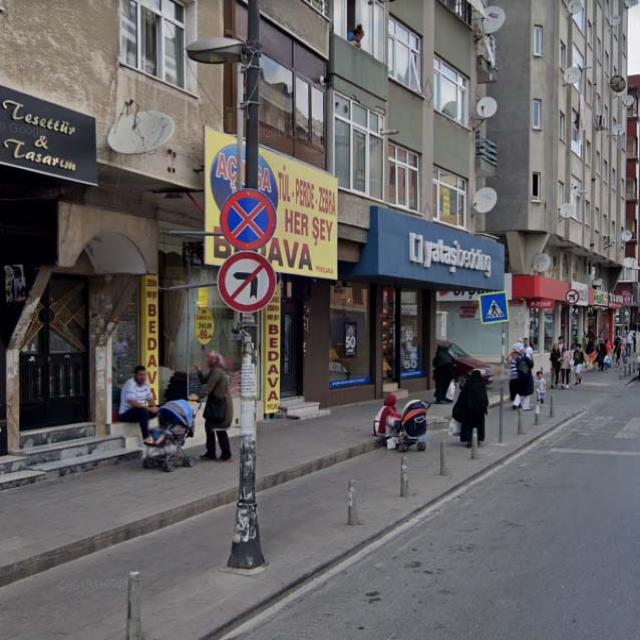soladonulmez: (217, 252, 276, 311), (564, 289, 578, 305)
